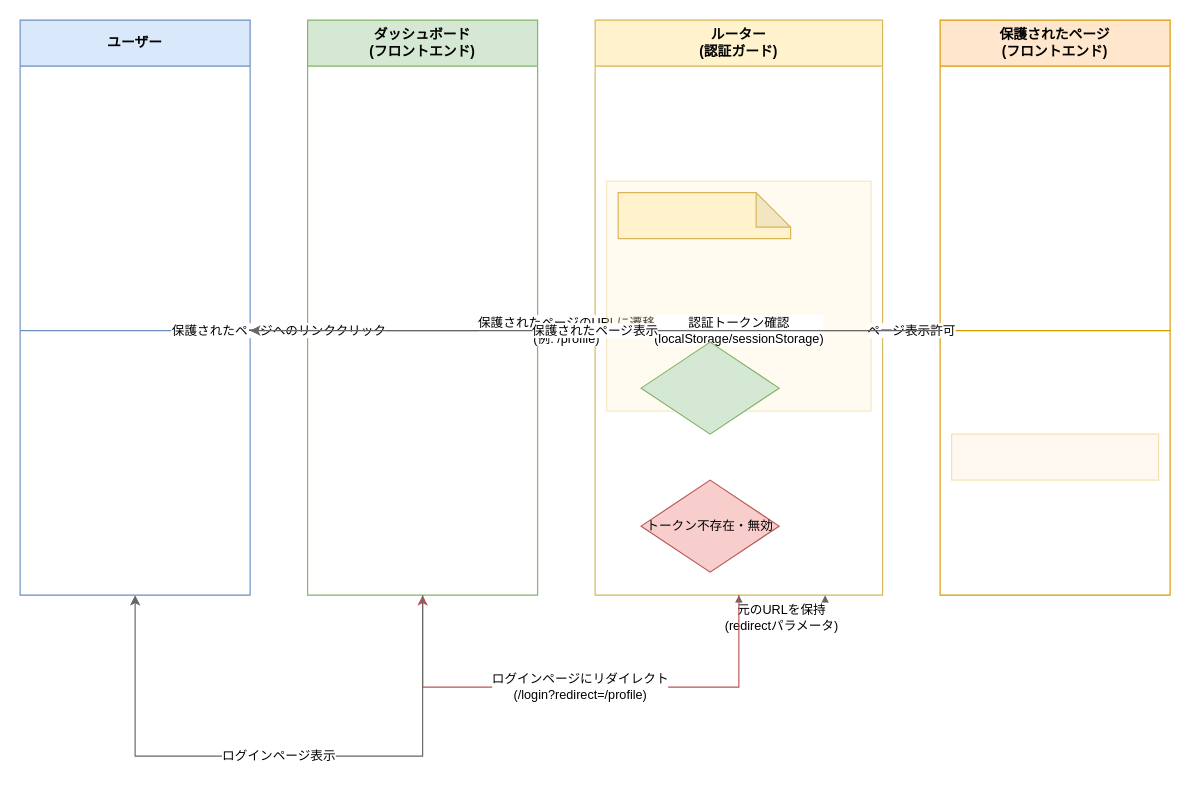
Some shapes in this 1190 by 785 pixel diagram are drawn without their labels. Each missing label, with the centre of its shape:
"トークン存在・有効" goes at point 709,387.
"認証状態チェック" goes at point 704,215.
